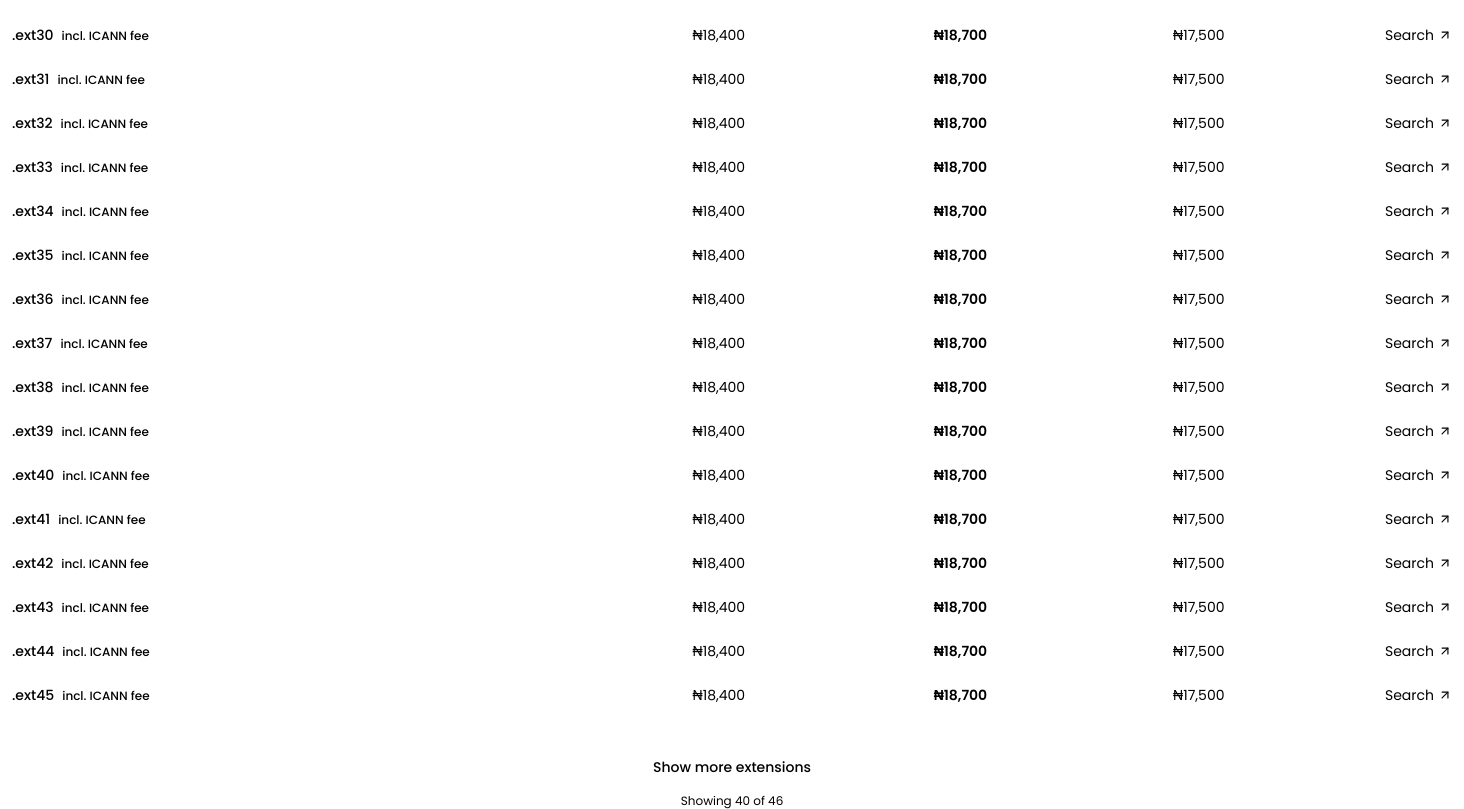
Test: PricingTable › shows forty extensions at a time, and the rest on request
This screenshot has width=1464, height=809.
(page scrolled)
Click the button "Show more extensions".
click(732, 767)  # box [637,749,827,785]
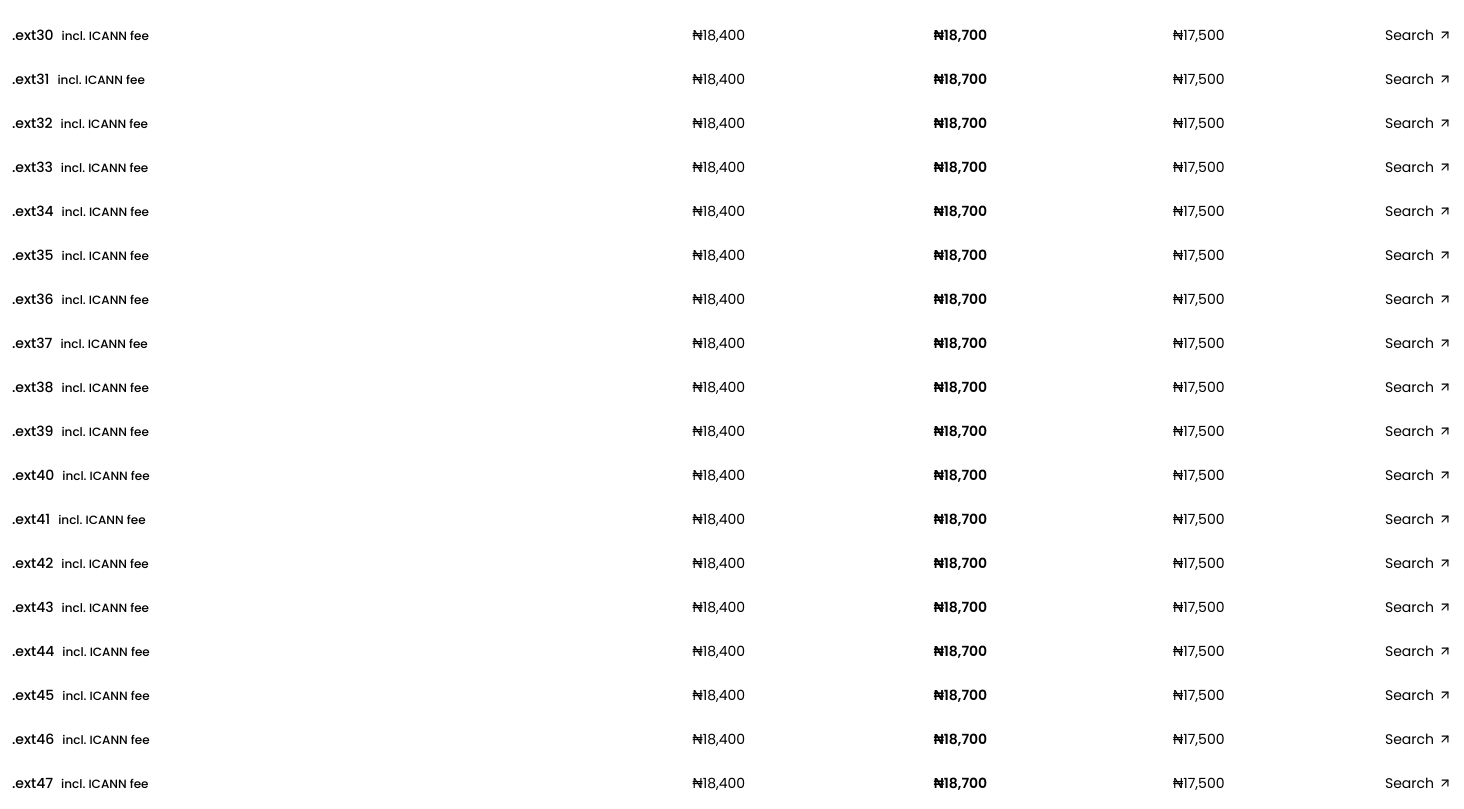
Expected: the button "Show more extensions" is gone
